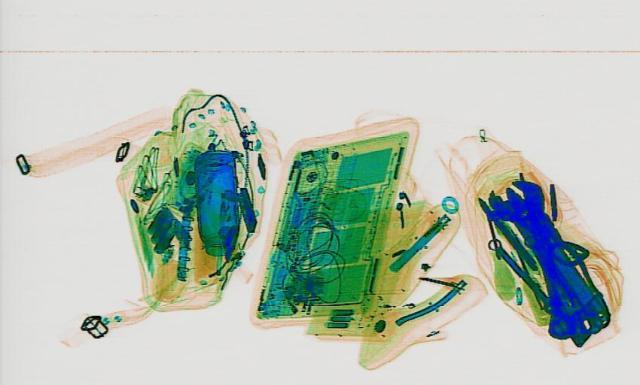Wrench: (478, 175, 620, 332)
